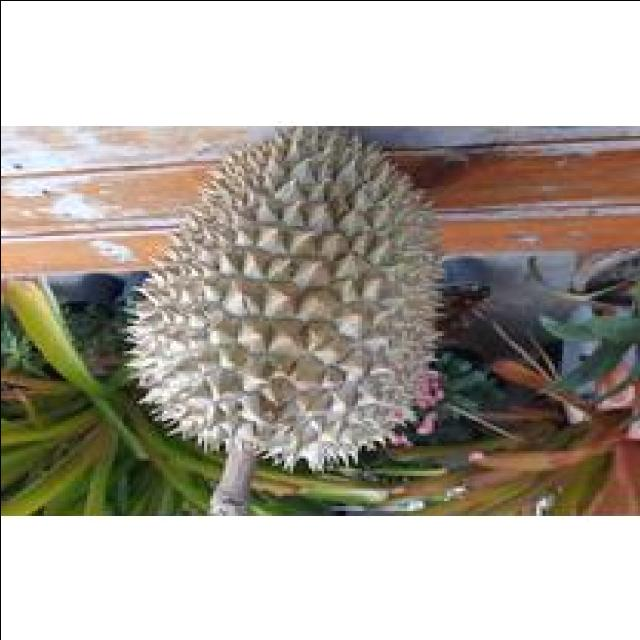non_orange: (102, 128, 456, 478)
